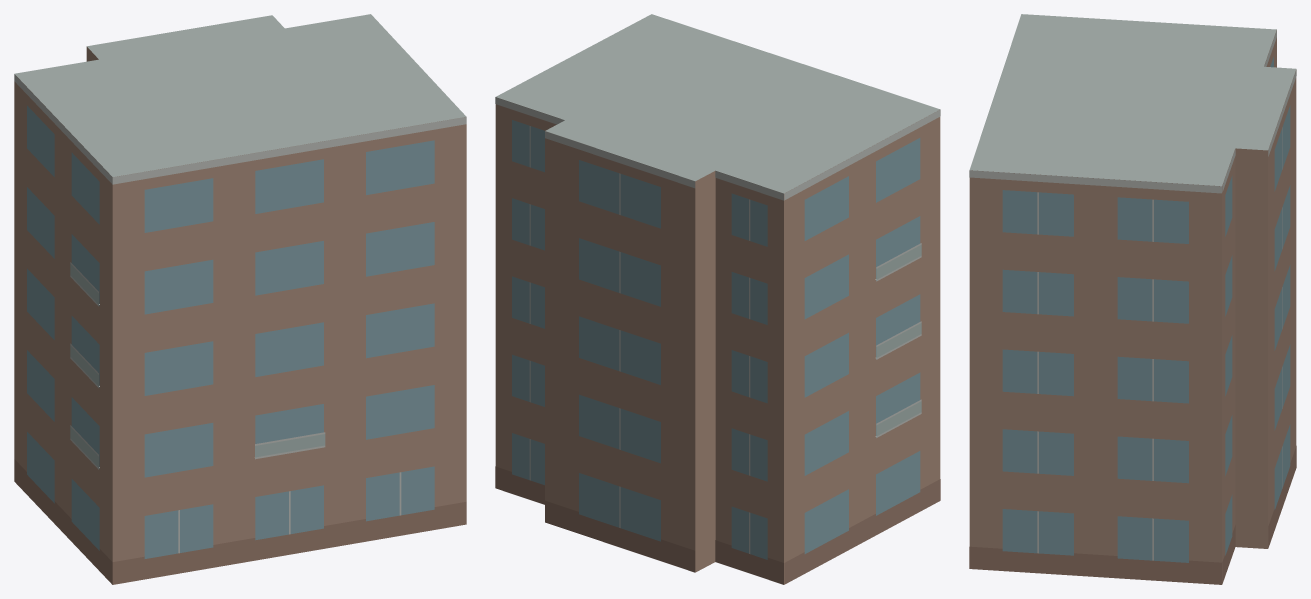
Rendered from survey-upis-32729988.glb.
The picture shows the model from 3 angles, left to right: view 1: azimuth 30°, elevation 25°; view 2: azimuth 150°, elevation 25°; view 3: azimuth 270°, elevation 25°; orthographic projection. The views are drawn at different scales.
Visible parts, largest first — view 1: survey-upis-32729988.tmp; view 2: survey-upis-32729988.tmp; view 3: survey-upis-32729988.tmp.
Boxes of the visible parts, x1,y1,x2,y2 form: survey-upis-32729988.tmp: (14, 14, 466, 584); survey-upis-32729988.tmp: (495, 14, 940, 584); survey-upis-32729988.tmp: (969, 14, 1296, 584).
Size of the model in its own units: 12.43 by 13.4 by 9.97.
